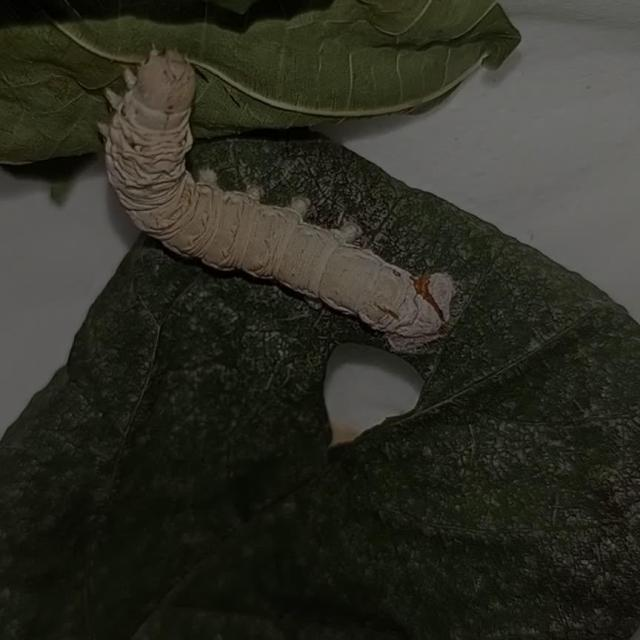Healthy: (89, 19, 488, 372)
